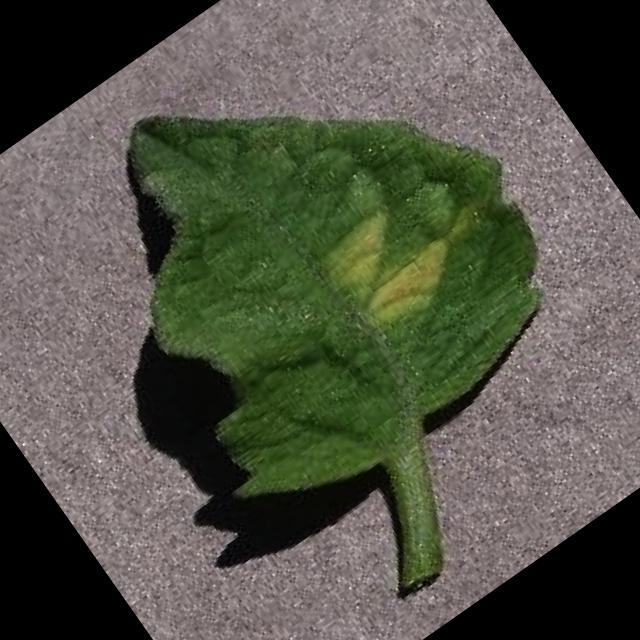Tomato mold leaf: (31, 0, 596, 533)
